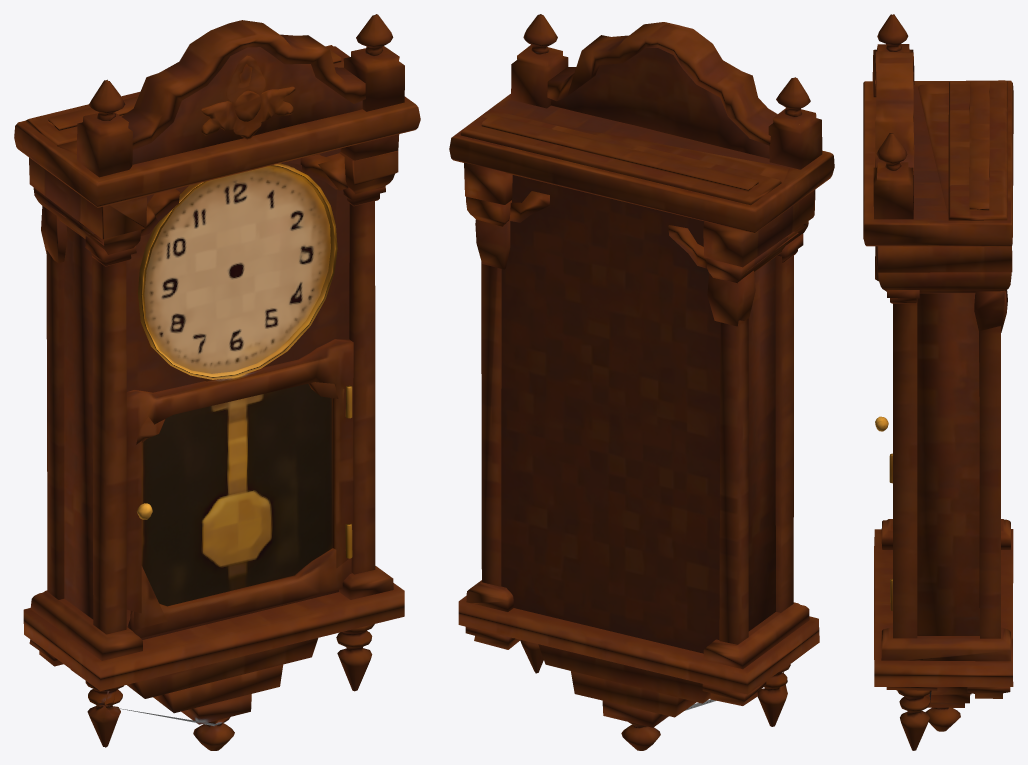
The model's file is wall_clock.glb.
The picture shows the model from 3 angles, left to right: view 1: azimuth 30°, elevation 25°; view 2: azimuth 150°, elevation 25°; view 3: azimuth 270°, elevation 25°; orthographic projection. The views are drawn at different scales.
Parts seen in each view (by area): view 1: geometry_0; view 2: geometry_0; view 3: geometry_0.
Part boxes in pixels (<box>): geometry_0: <box>14,14,420,750</box>; geometry_0: <box>449,14,834,750</box>; geometry_0: <box>863,14,1013,750</box>.
Bounding box in the file's own units: 0.4603 × 1 × 0.2035.
Materials: 1 (1 with a texture image).
